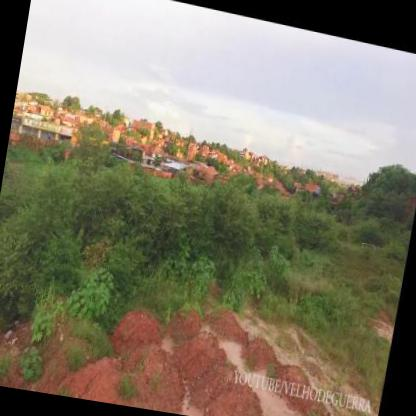agua: (224, 338, 248, 364), (178, 396, 208, 415)
